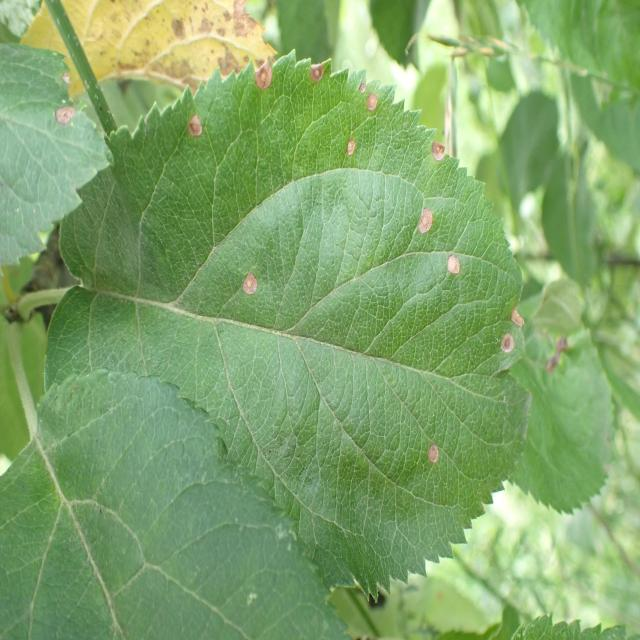Black Rot: (232, 242, 264, 339), (355, 72, 387, 139), (501, 276, 535, 339), (304, 43, 333, 109), (403, 197, 440, 247), (244, 47, 277, 103), (425, 122, 453, 180), (48, 97, 78, 149), (182, 103, 208, 159), (488, 321, 517, 365), (442, 243, 460, 289), (342, 123, 358, 173), (423, 436, 442, 476)
